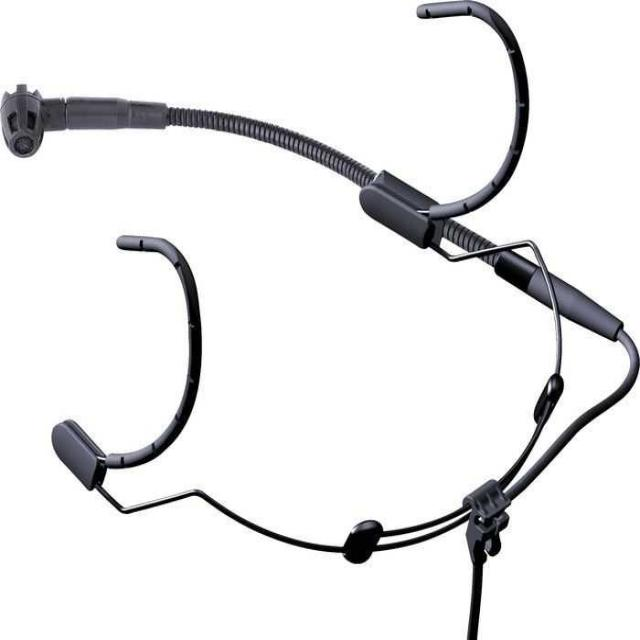microphone: (4, 83, 193, 169)
